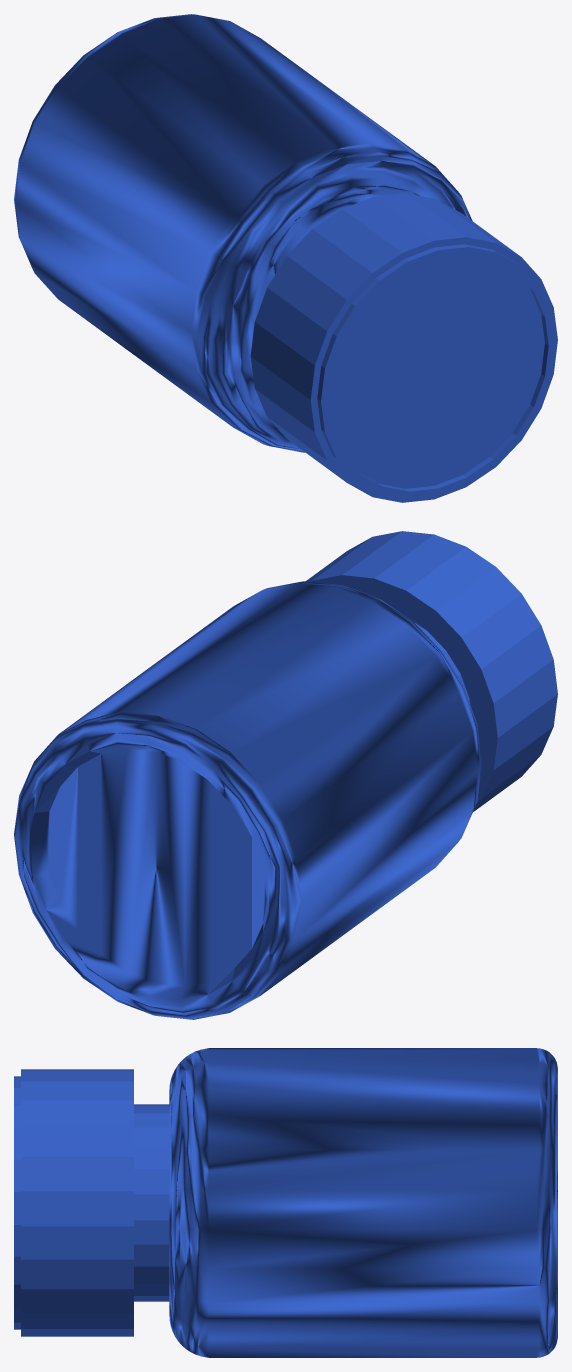
Rendered from model_align.obj.
3 views of the same model, one above another, from view 1: azimuth 30°, elevation 25°; view 2: azimuth 150°, elevation 25°; view 3: azimuth 270°, elevation 25° (orthographic). The views are drawn at different scales.
Bounding box in the file's own units: 0.0744 × 0.0744 × 0.1301.
